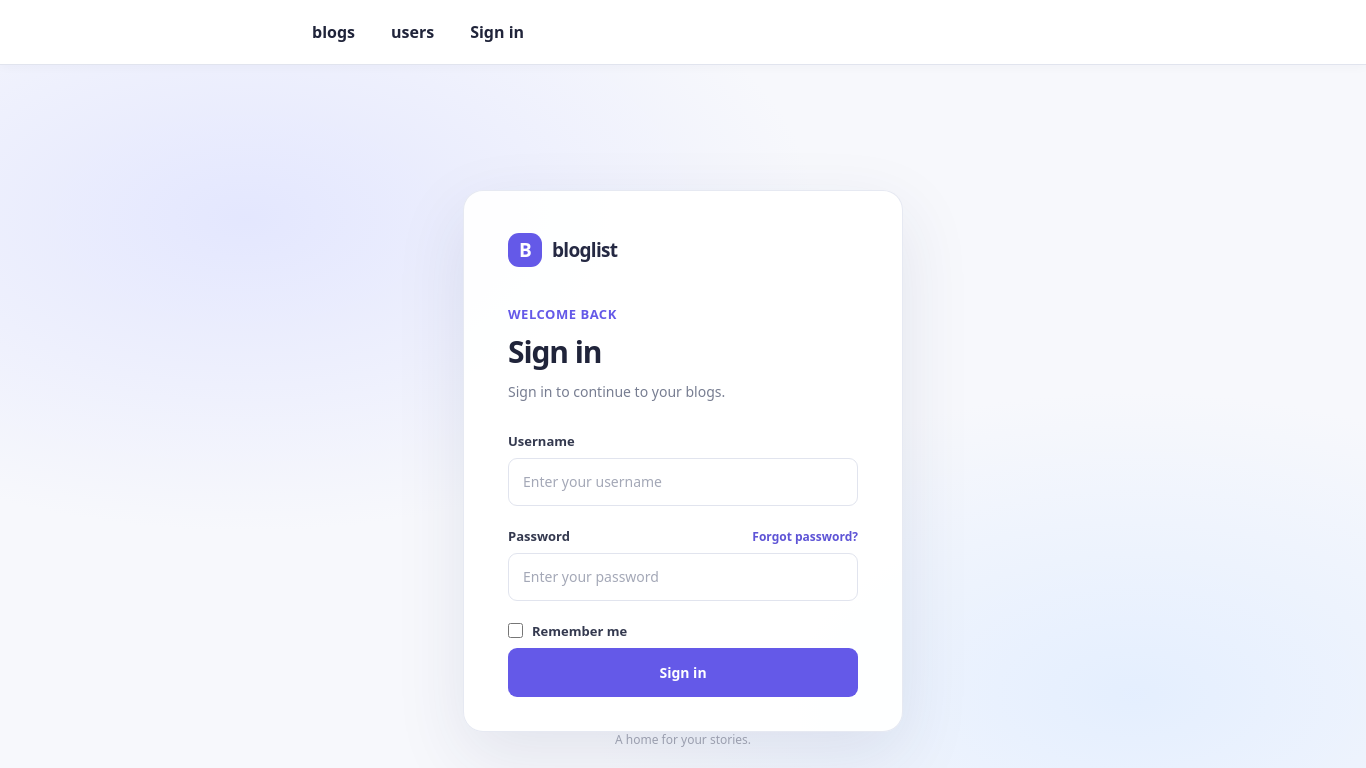
App routes and navigation › shows a login error as a notification
The width and height of the screenshot is (1366, 768).
Type "testuser" into the field labelled "Username" at (683, 482), box x1=508 y1=458 x2=858 y2=506
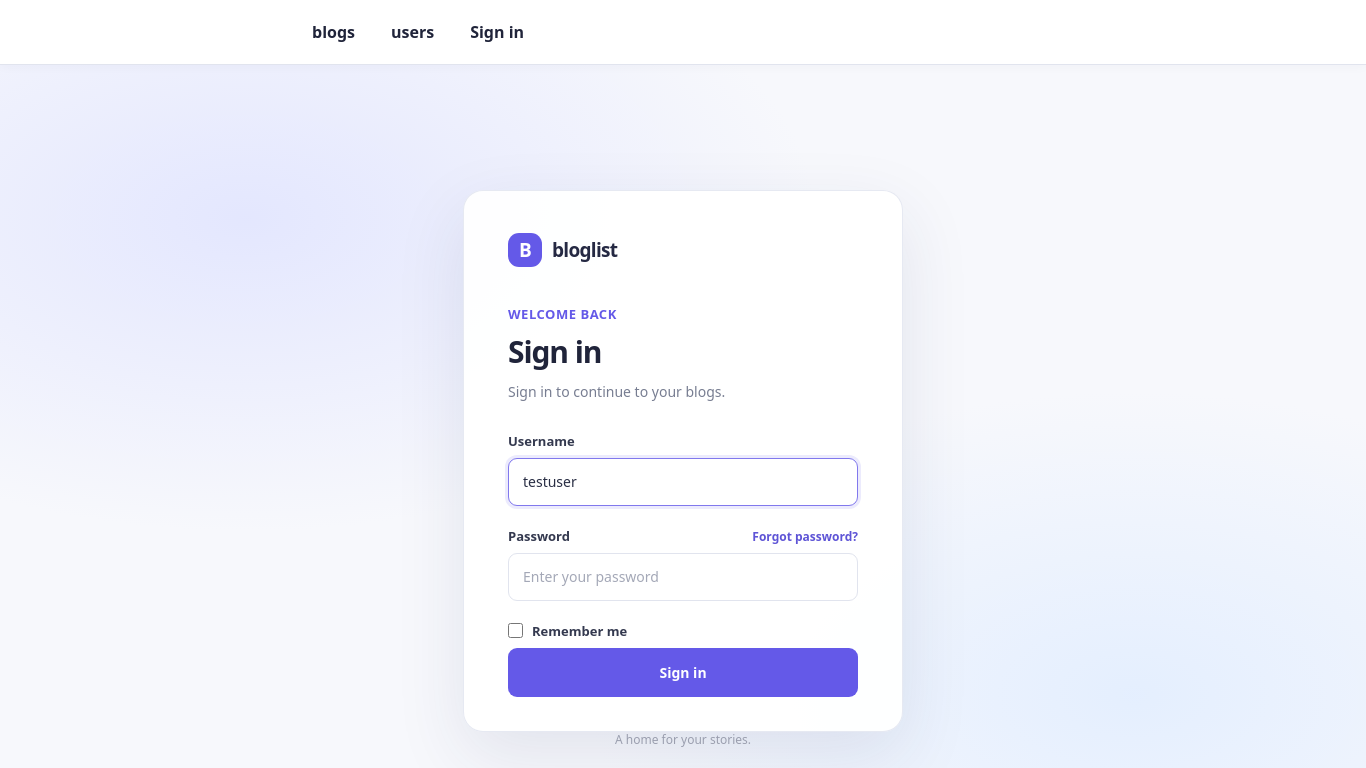
Type "wrong-password" into the password field labelled "Password" at (683, 577), box x1=508 y1=553 x2=858 y2=601
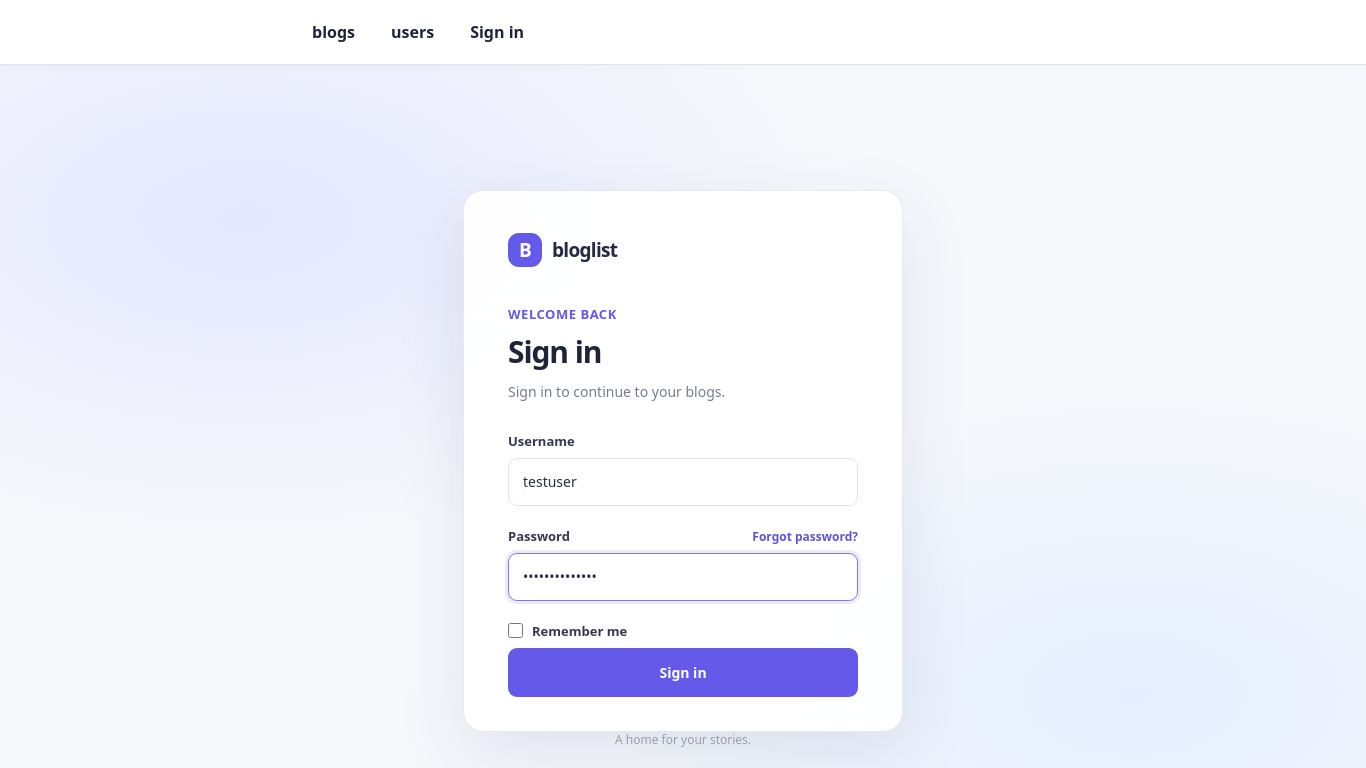
Click the button "Sign in" at (683, 672), box x1=508 y1=648 x2=858 y2=697
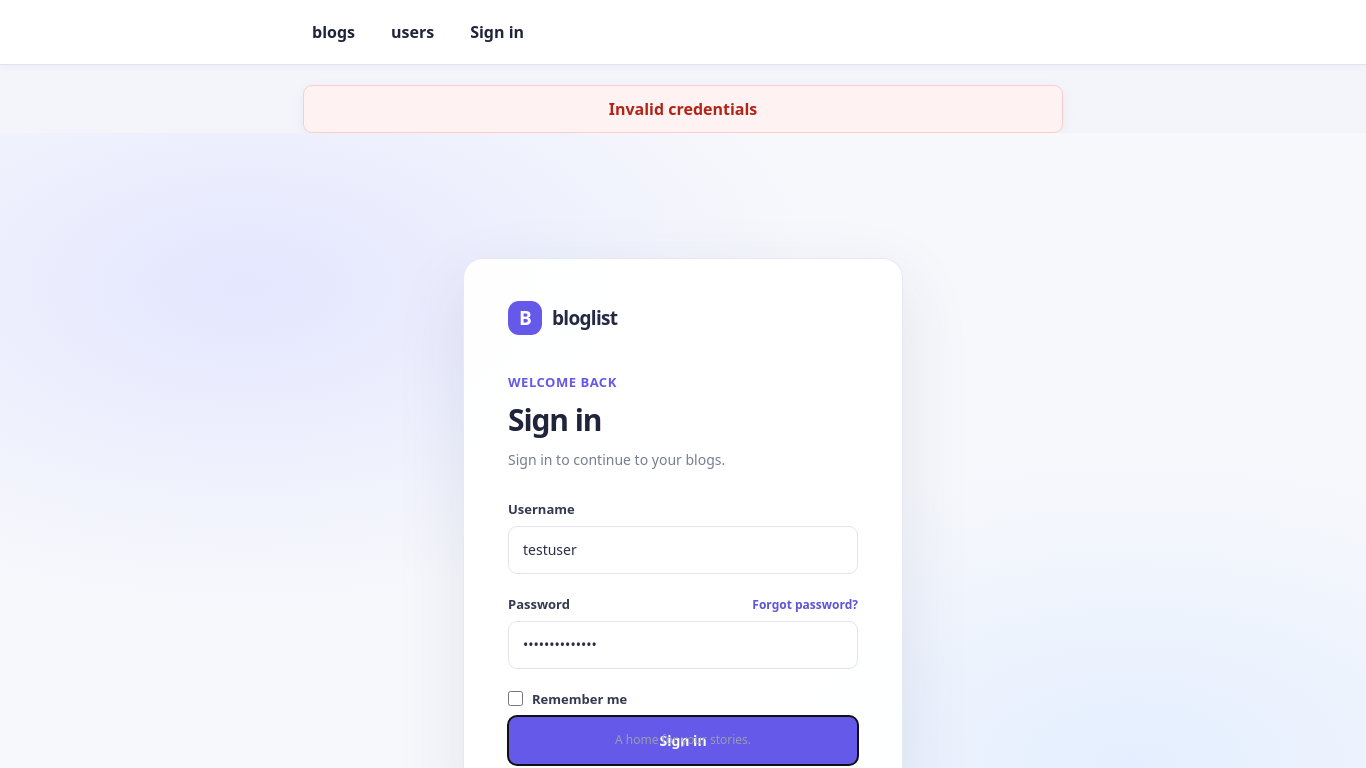
Check: the message reads "Invalid credentials", box x1=609 y1=98 x2=757 y2=120
